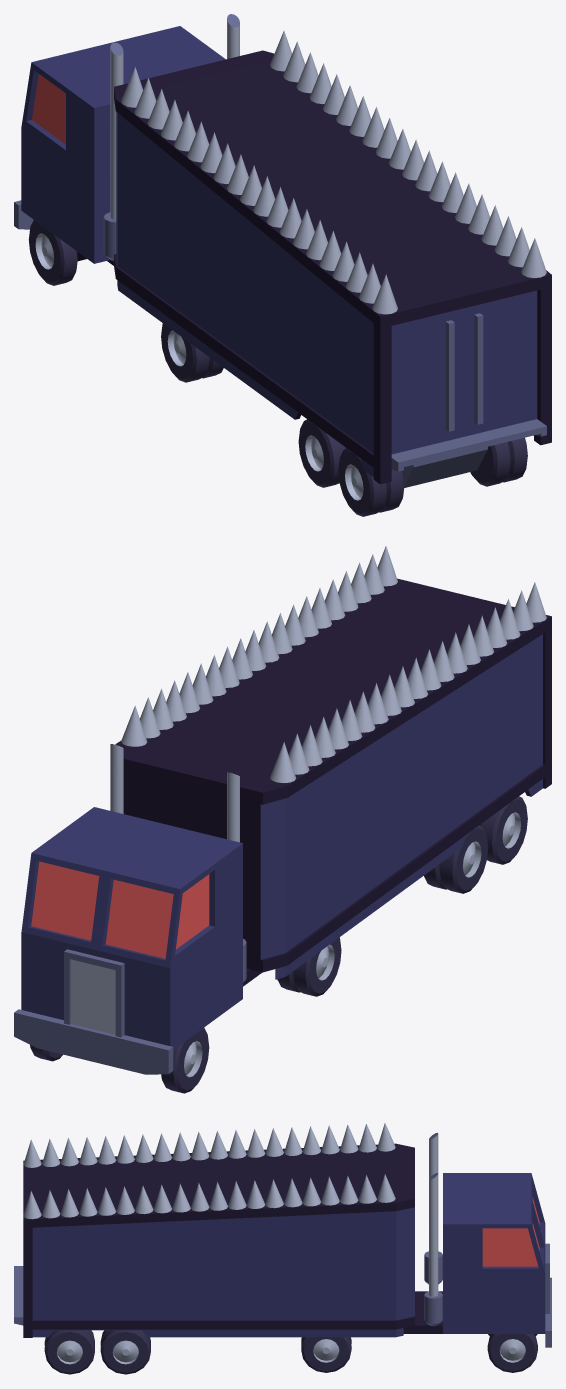
File: Evil_truck.fbx
3 renders of one model, top to bottom at view 1: azimuth 30°, elevation 25°; view 2: azimuth 150°, elevation 25°; view 3: azimuth 270°, elevation 25°, orthographic. The views are drawn at different scales.
Visible parts, largest first — view 1: Trailer, TrailerCover, Cab, Doors, Spike1, Spike2, WheelB, WheelB1, WheelS, Smoker2, WheelB2, WheelB003 (+1 smaller); view 2: Trailer, Cab, TrailerCover, Spike2, Spike1, CabBumper, WheelB1, WheelB, WheelB2, WheelS, Smoker2, Smoker1; view 3: Trailer, Cab, TrailerCover, Spike1, Spike2, WheelB004, WheelB003, Smoker1, WheelS001, WheelB005, CabSkeleton, Smoker2.
Boxes of the visible parts, x1,y1,x2,y2 form: Trailer: (114,50,551,484); TrailerCover: (153,61,540,325); Cab: (21,26,225,263); Doors: (391,290,537,454); Spike1: (270,30,546,277); Spike2: (121,67,397,314); WheelB: (338,448,404,516); WheelB1: (298,419,346,487); WheelS: (28,220,77,285); Smoker2: (103,42,123,261); WheelB2: (161,323,223,382); WheelB003: (470,437,527,486); Trailer: (115,615,551,979); Cab: (21,807,242,1049); TrailerCover: (127,578,514,782); Spike2: (270,582,546,782); Spike1: (121,546,397,746); CabBumper: (14,1009,173,1074); WheelB1: (424,825,488,893); WheelB: (479,796,527,864); WheelB2: (277,937,341,996); WheelS: (161,1028,209,1093); Smoker2: (227,772,246,982); Smoker1: (110,744,123,813); Trailer: (14,1143,414,1337); Cab: (443,1173,549,1333); TrailerCover: (23,1147,396,1215); Spike1: (23,1174,395,1219); Spike2: (23,1123,395,1167); WheelB004: (100,1330,150,1374); WheelB003: (44,1330,94,1374); Smoker1: (424,1173,442,1326); WheelS001: (487,1334,537,1372); WheelB005: (301,1337,351,1372); CabSkeleton: (403,1291,537,1336); Smoker2: (424,1132,442,1284).
Bounding box in the file's own units: 7.5 × 11.84 × 28.85.
